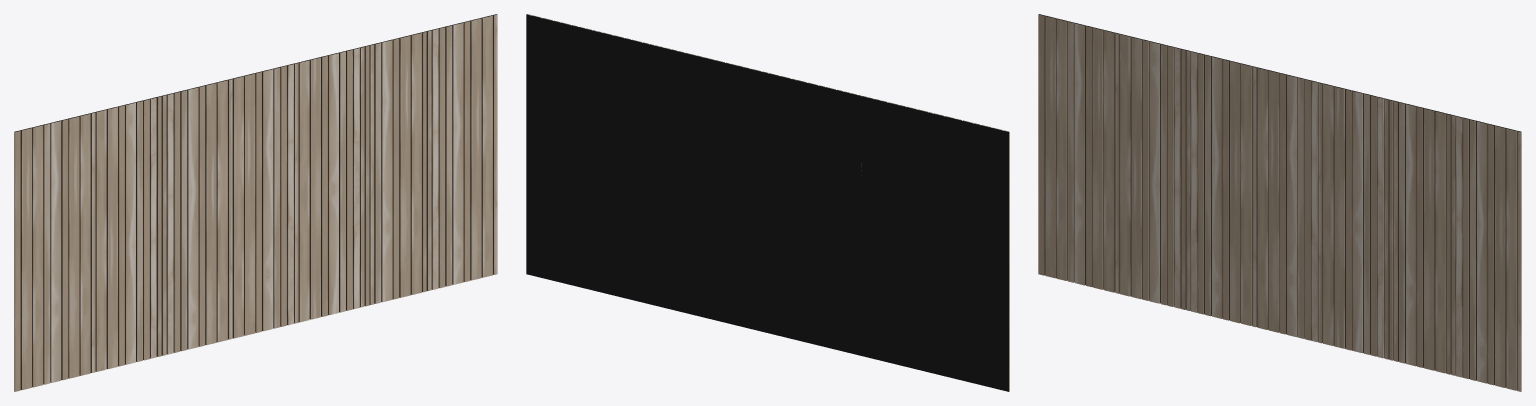
File: RANDOM PLANK.glb
3 views of the same model, side by side, from view 1: azimuth 30°, elevation 25°; view 2: azimuth 150°, elevation 25°; view 3: azimuth 330°, elevation 25° (orthographic).
Visible parts, largest first — view 1: Plane026; view 2: Plane026; view 3: Plane026.
Part boxes in pixels (x1,y1,x2,y2): Plane026: (14,14,497,391); Plane026: (526,14,1009,391); Plane026: (1038,14,1521,391).
Bounding box in the file's own units: 11.42 × 5.88 × 0.0254.
2 materials, 1 textured.
